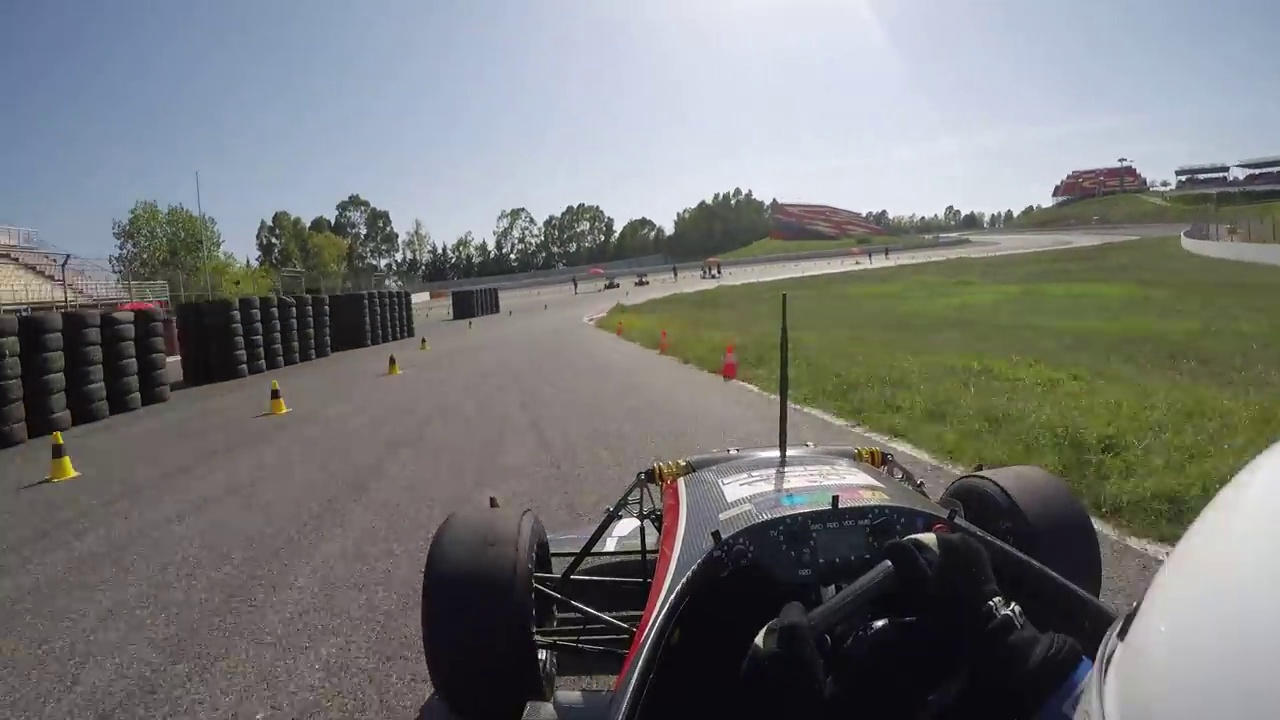Cone: (44, 429, 80, 485), (262, 377, 297, 418), (720, 341, 743, 381)
